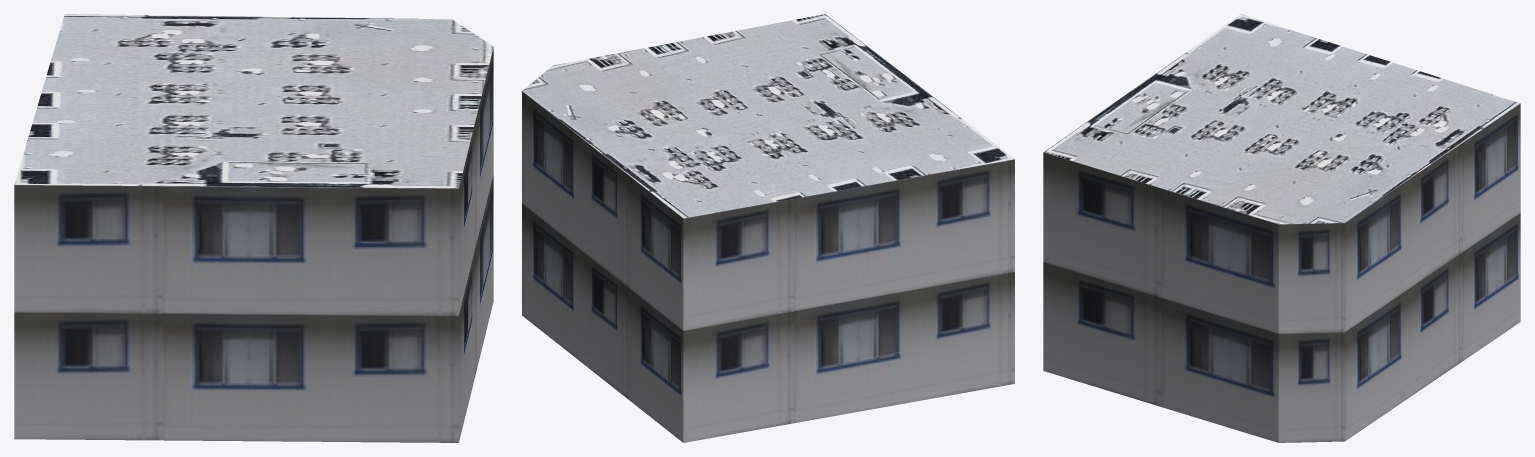
The model's file is ResTex__4873.fbx.
3 views of the same model, side by side, from view 1: azimuth 30°, elevation 25°; view 2: azimuth 150°, elevation 25°; view 3: azimuth 270°, elevation 25° (orthographic). The views are drawn at different scales.
Parts seen in each view (by area): view 1: CityEngineMaterial_9_m, CityEngineMaterial_2_m; view 2: CityEngineMaterial_9_m, CityEngineMaterial_2_m; view 3: CityEngineMaterial_9_m, CityEngineMaterial_2_m.
Boxes of the visible parts, x1,y1,x2,y2 form: CityEngineMaterial_9_m: [14, 48, 493, 442]; CityEngineMaterial_2_m: [14, 14, 493, 188]; CityEngineMaterial_9_m: [522, 91, 1014, 442]; CityEngineMaterial_2_m: [522, 14, 1014, 218]; CityEngineMaterial_9_m: [1043, 103, 1520, 442]; CityEngineMaterial_2_m: [1044, 14, 1519, 224].
Size of the model in its own units: 12.38 by 6 by 11.87.
2 materials, 2 textured.
